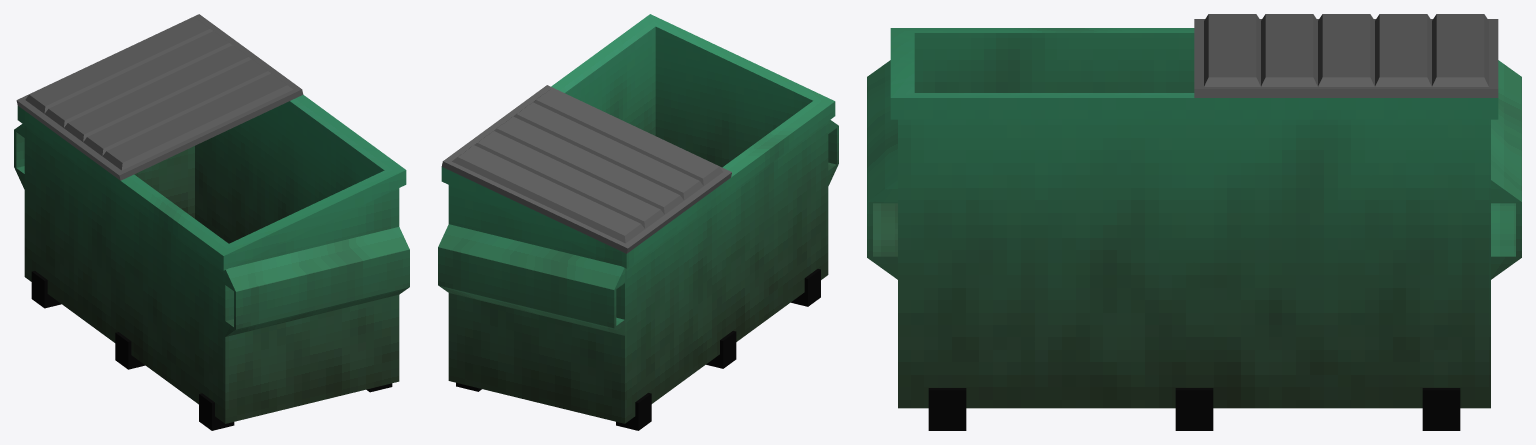
File: dumpster_model.fbx
3 views of the same model, side by side, from view 1: azimuth 30°, elevation 25°; view 2: azimuth 150°, elevation 25°; view 3: azimuth 270°, elevation 25° (orthographic). The views are drawn at different scales.
Visible parts, largest first — view 1: polySurface2; view 2: polySurface2; view 3: polySurface2.
Boxes of the visible parts, box(x1,y1,x2,y2) form: polySurface2: box(14, 14, 409, 430); polySurface2: box(438, 14, 838, 430); polySurface2: box(867, 14, 1521, 430).
Bounding box in the file's own units: 6.34 × 7.74 × 13.26.
Materials: 3 (1 with a texture image).
